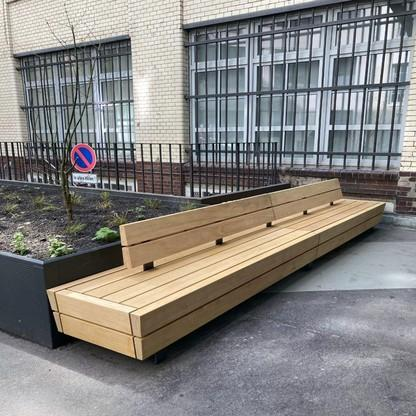obstacle: (43, 164, 382, 383)
